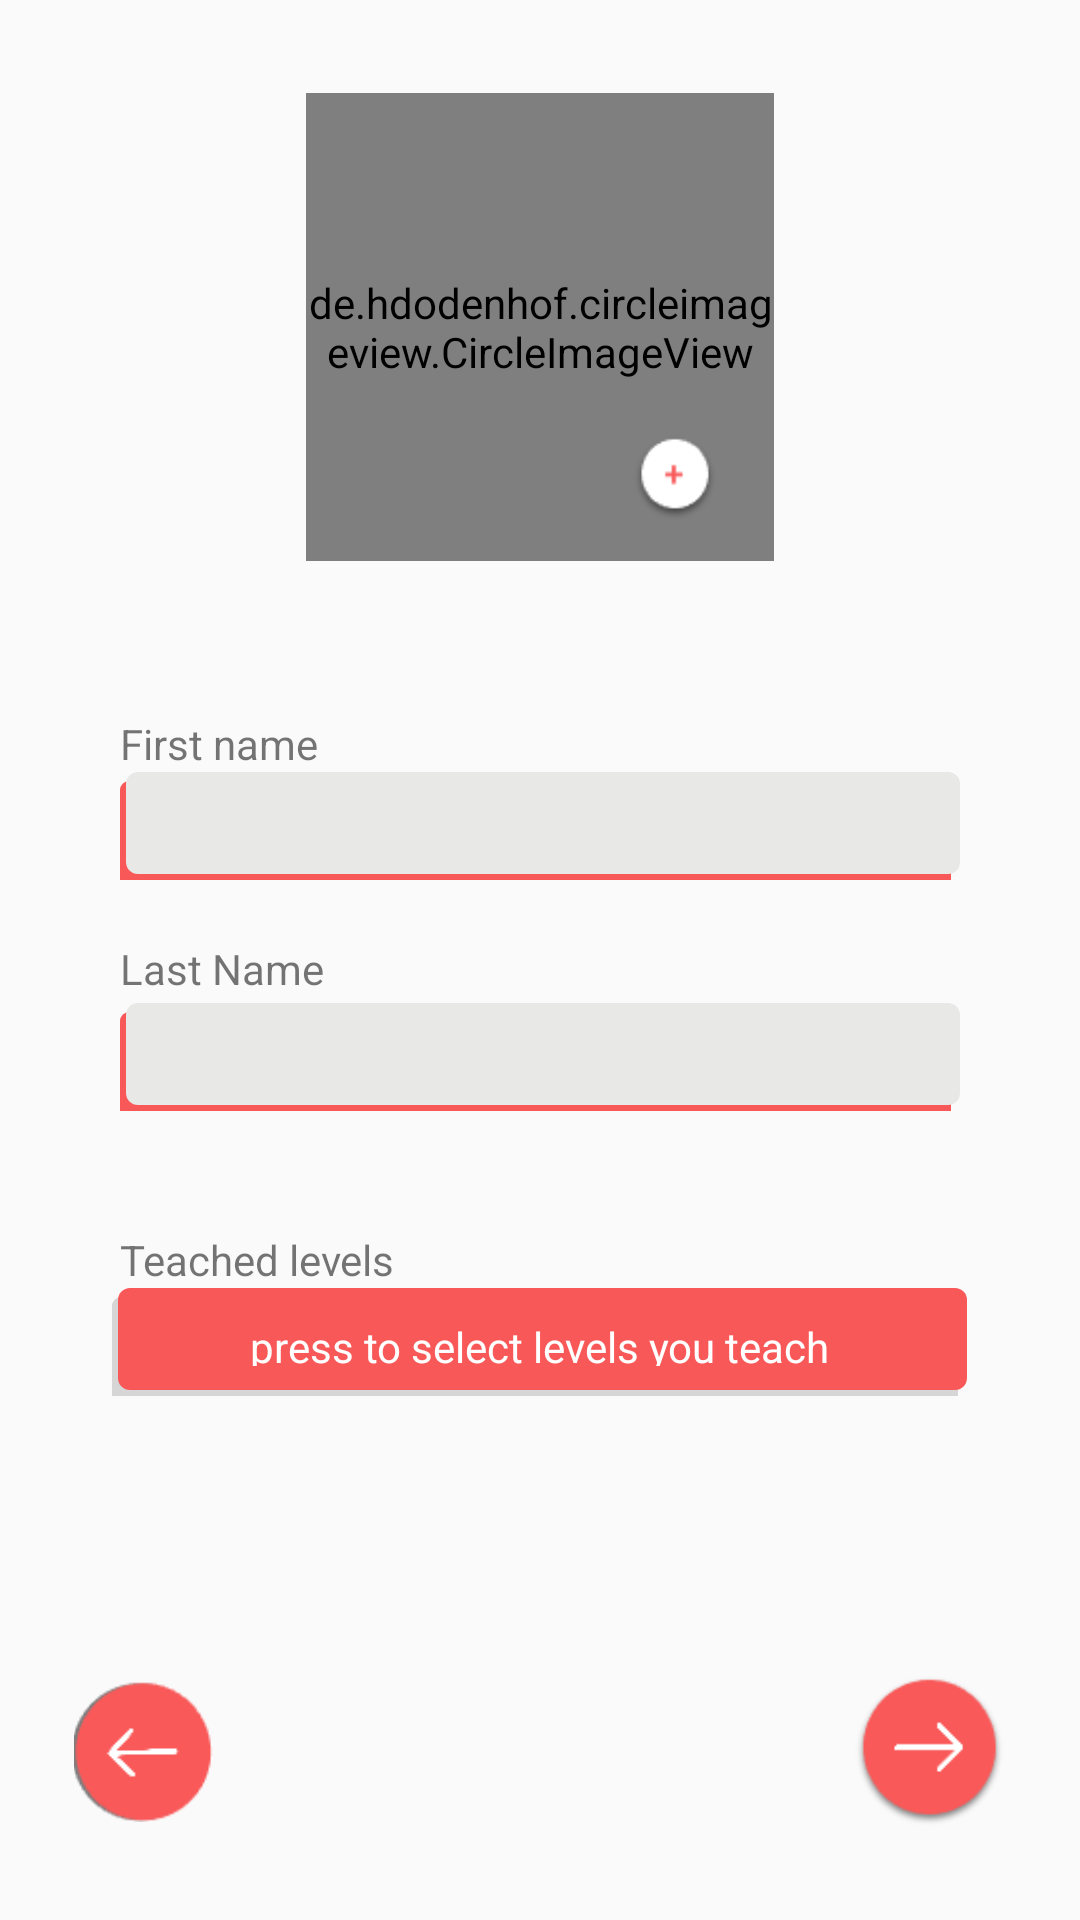

Locate icon controls on the screen. Image size 1080px x 1920px, boxes as [x1,y1,x2,y2].
ajouter: [641,439,709,513]
left arrow: [74,1682,211,1822]
right arrow: [860,1679,999,1821]
